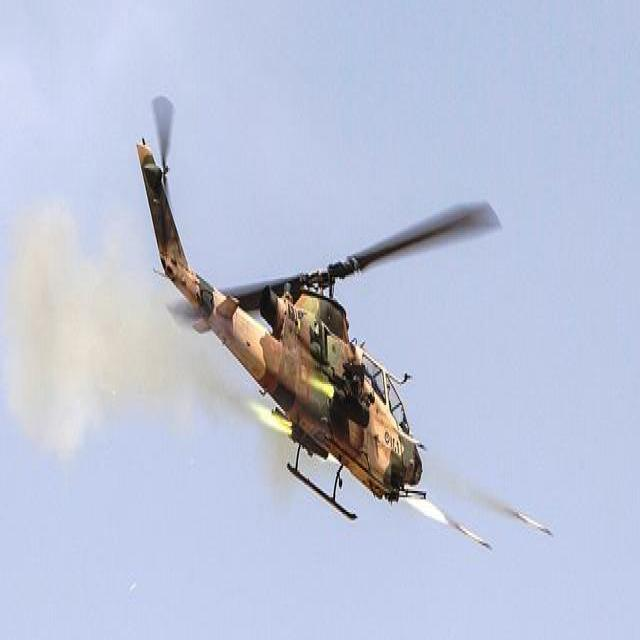MIL_HELO: (128, 58, 500, 554)
